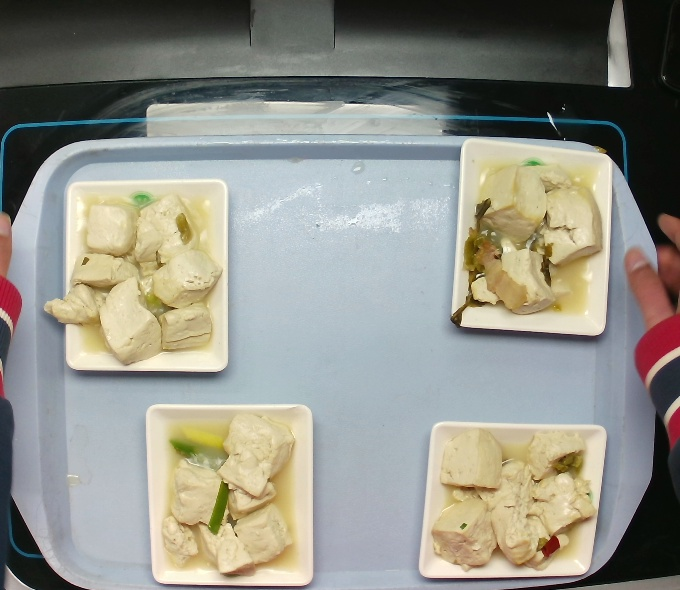wcq-LuDouFu: (42, 196, 228, 370), (451, 154, 607, 331), (151, 408, 307, 585), (430, 422, 598, 571)
